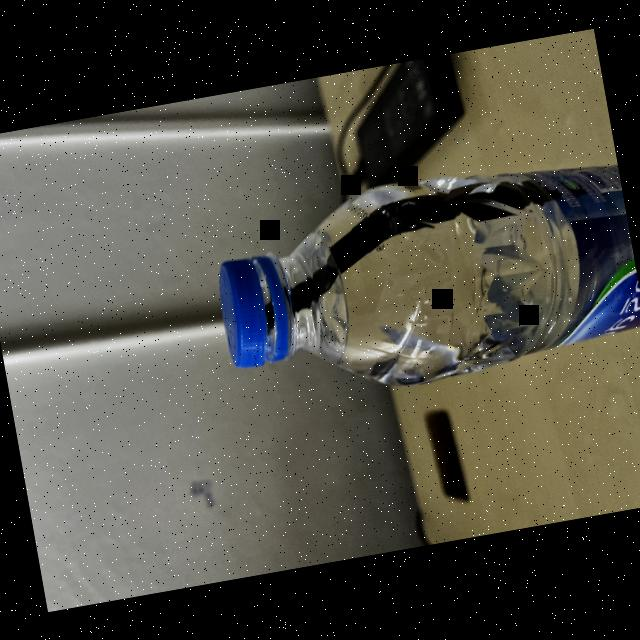plastic_bottle_cap: (208, 248, 276, 372)
